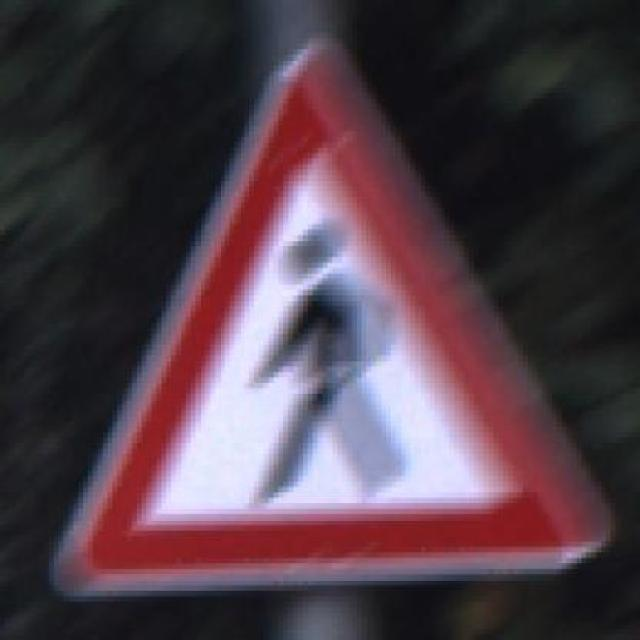Pedestrian Crossing: (49, 21, 611, 597)
